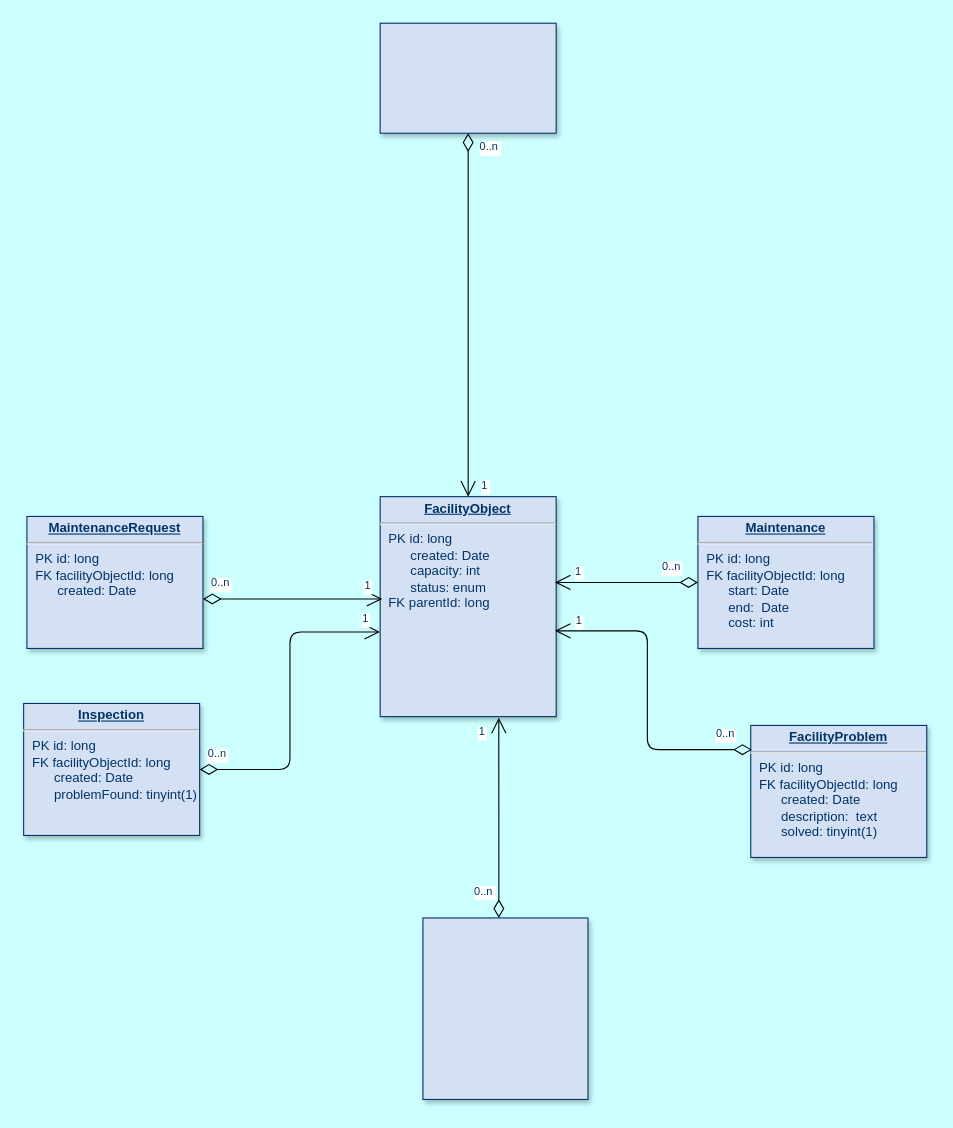
Some shapes in this 953 by 1128 pixel diagram are drawn without their labels. The shapes that lost their labels are listed below. From the top down, each one's centre as x and y in pixels, then its label:
point (469, 79): Usage PK id: long FK facilityObjectId: long start: Date end: Date
point (506, 1009): FacilityDetail PK id: long FK facilityObjectId: long start: Date end: Date
